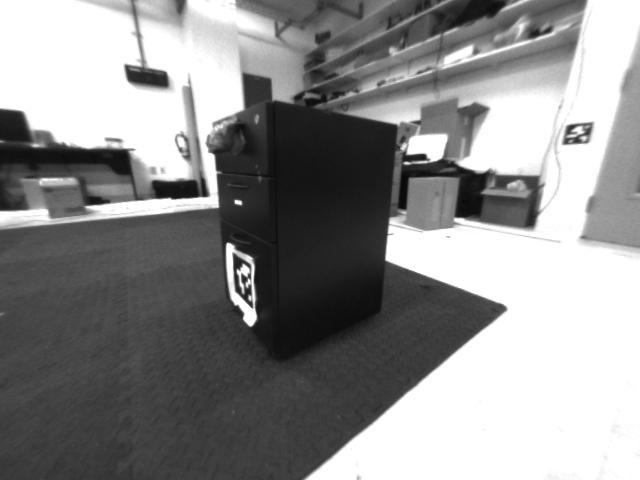drawer: (192, 115, 252, 159)
